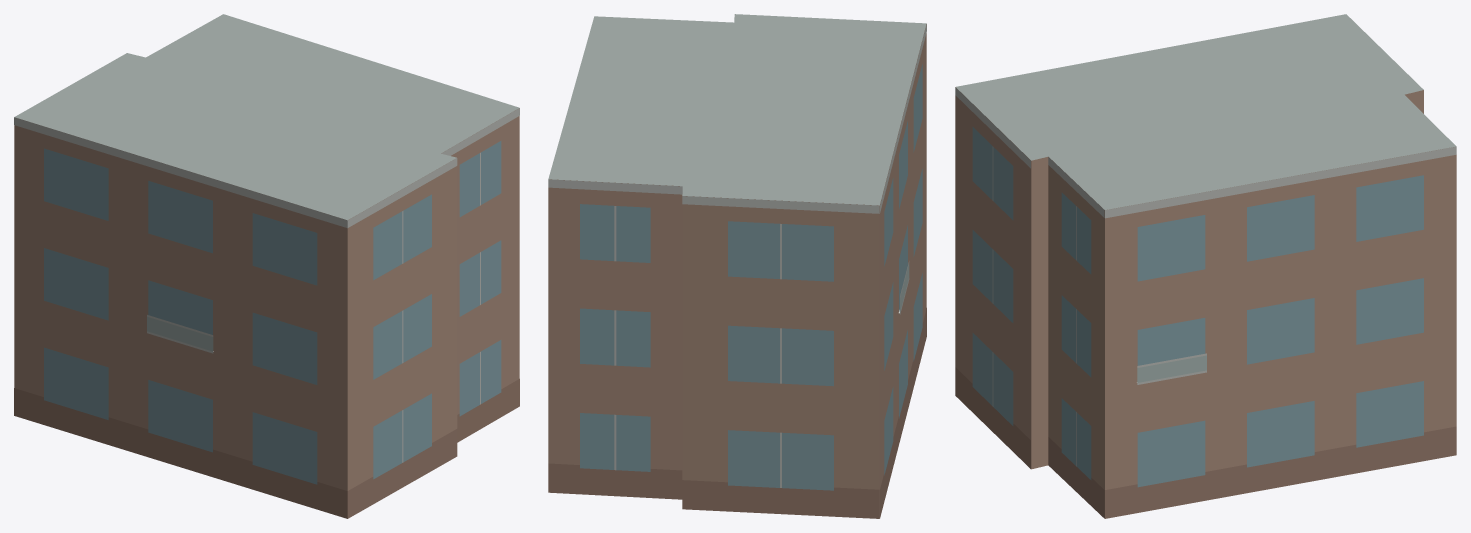
File: survey-upis-32687685.glb
The picture shows the model from 3 angles, left to right: view 1: azimuth 30°, elevation 25°; view 2: azimuth 150°, elevation 25°; view 3: azimuth 270°, elevation 25°; orthographic projection. The views are drawn at different scales.
Parts seen in each view (by area): view 1: survey-upis-32687685.tmp; view 2: survey-upis-32687685.tmp; view 3: survey-upis-32687685.tmp.
Part boxes in pixels (bbox=[...]): survey-upis-32687685.tmp: bbox=[14, 14, 519, 518]; survey-upis-32687685.tmp: bbox=[548, 14, 926, 518]; survey-upis-32687685.tmp: bbox=[955, 14, 1456, 518].
Bounding box in the file's own units: 12.48 × 9.15 × 13.47.
